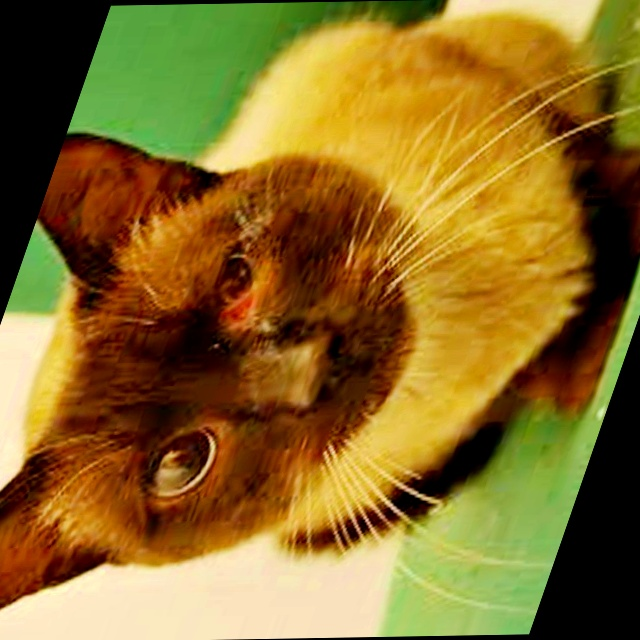eye_infection: (205, 257, 274, 318)
